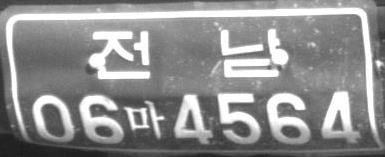0: (31, 93, 74, 145)
4: (319, 90, 361, 143), (173, 94, 213, 144)
5: (216, 92, 261, 144)
6: (265, 91, 311, 145), (79, 94, 125, 144)
마: (126, 99, 165, 139)
전남_D: (91, 28, 280, 79)
